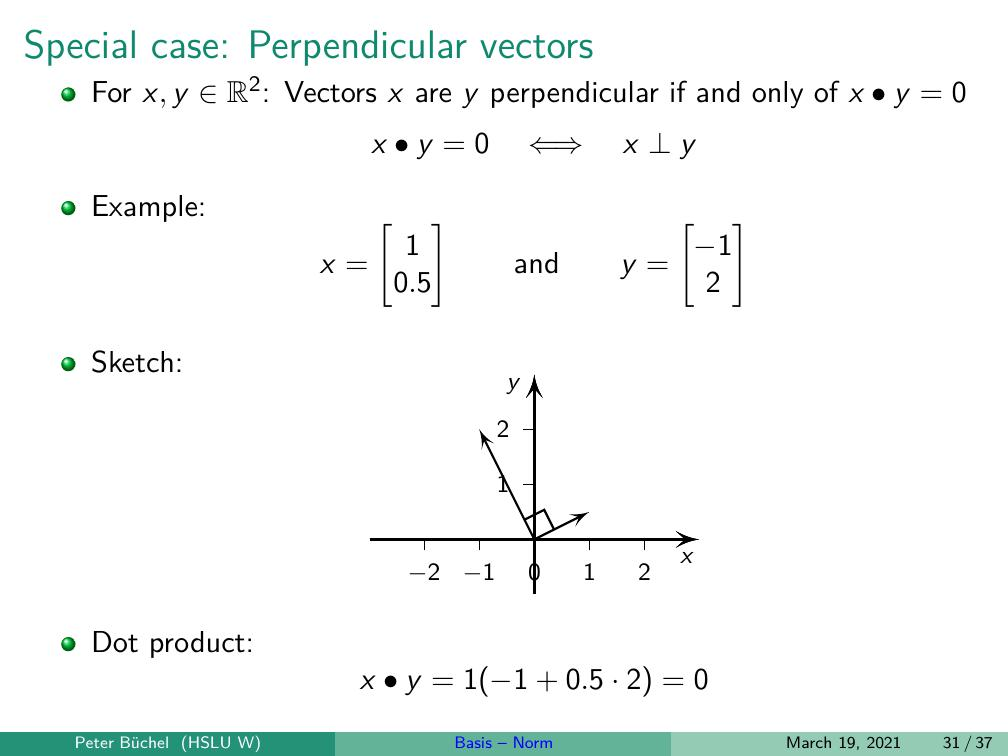Title: (16, 21, 602, 73)
